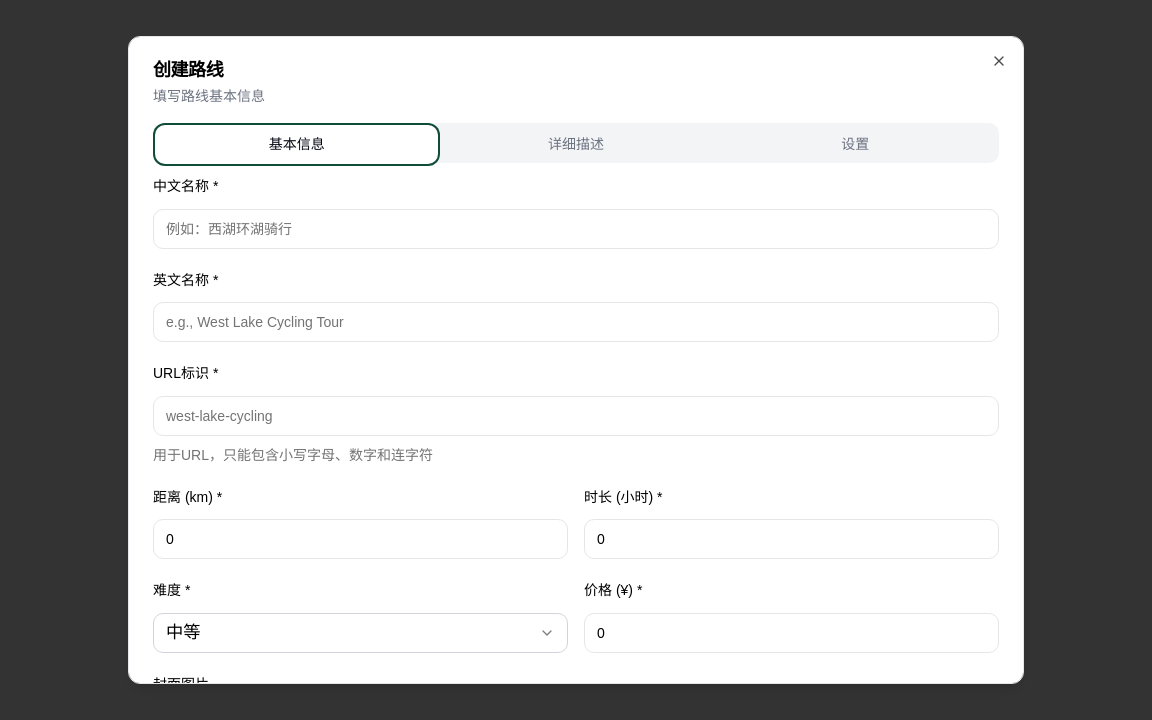
it: RouteEditor - Form Validation Tests (Requirements 8.2) › Character Counter Display › should display character count for short description
The image size is (1152, 720).
Switch to description tab
Step 1. Press the mouse on the tab "详细描述" → (576, 145), box [436,127,716,162]
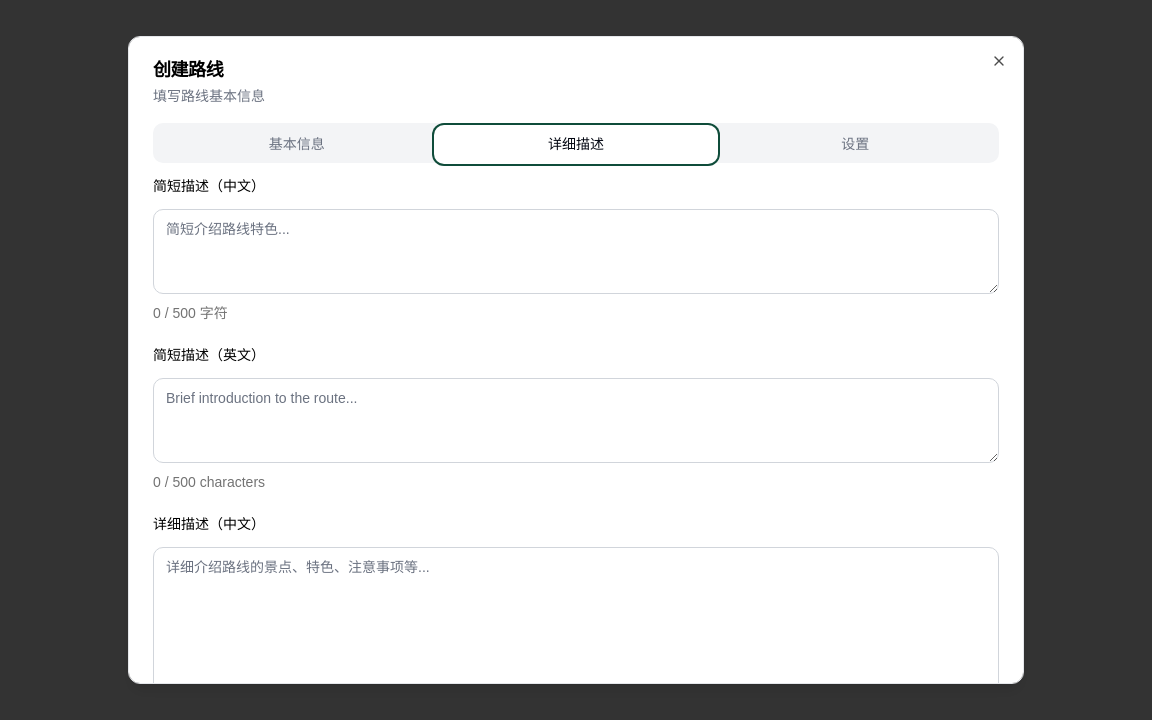
Now the text box named "shortDescZh" is shown
Step 2. Type "Test description" into the text box named "shortDescZh" → (576, 251), box [153,209,999,294]
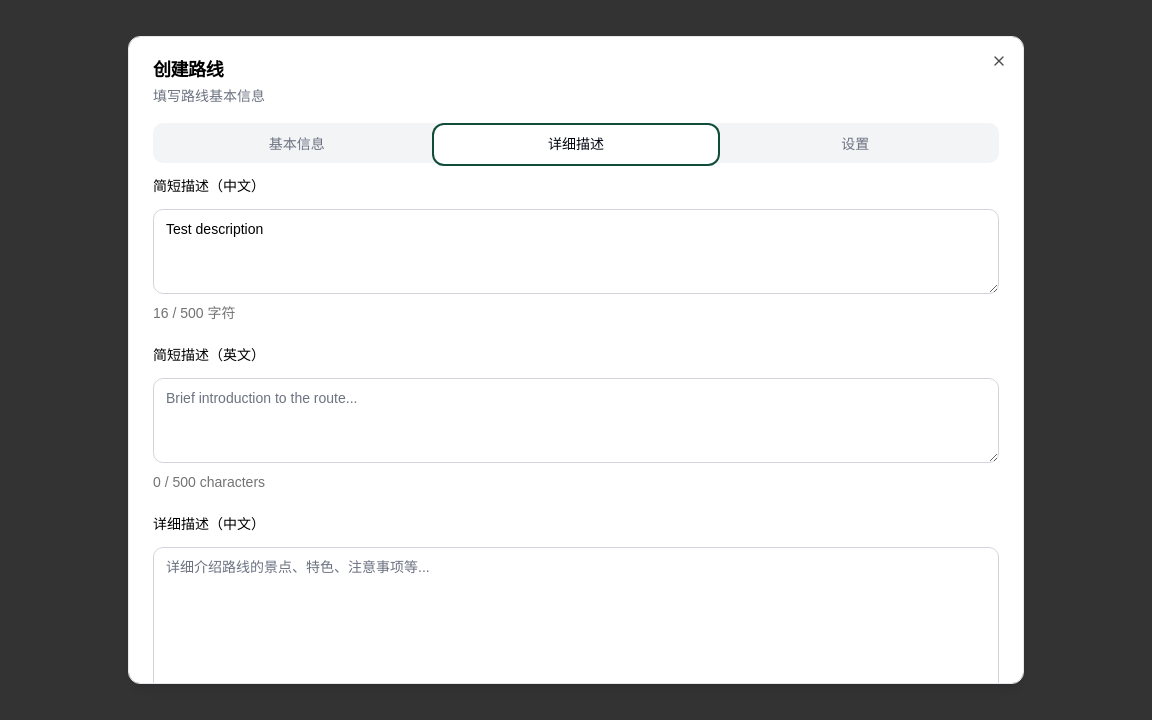
Now the text "16 / 500 字符" is shown, box [153,305,236,321]
